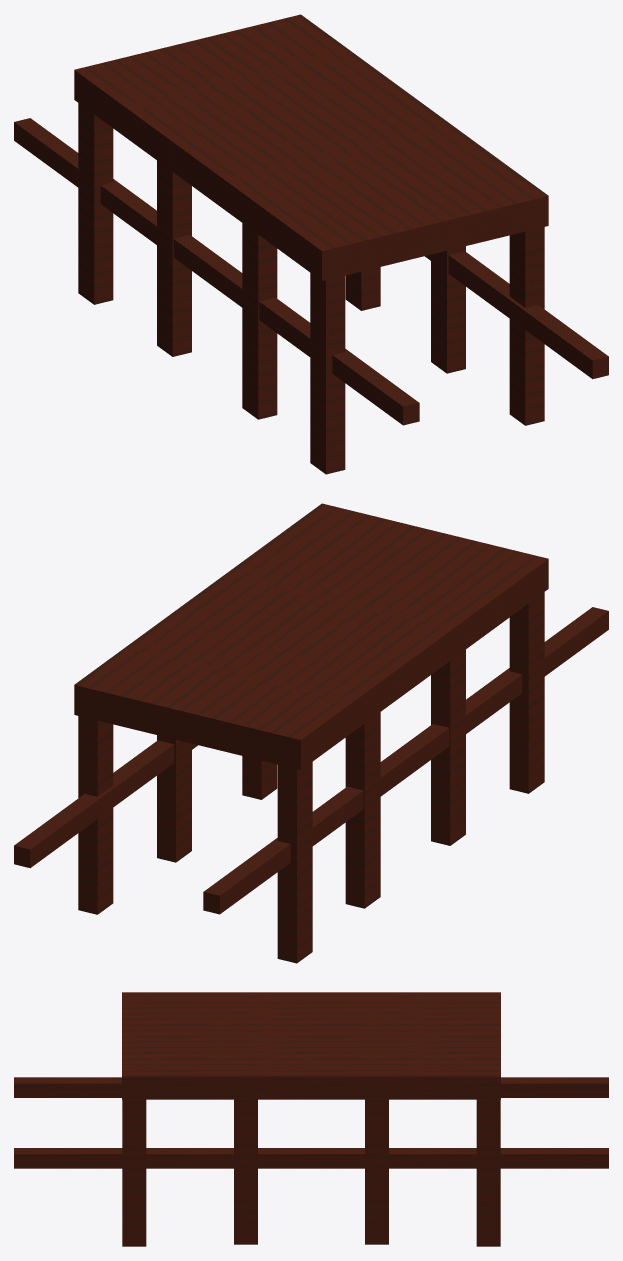
Rendered from Bridge.fbx.
3 views of the same model, one above another, from view 1: azimuth 30°, elevation 25°; view 2: azimuth 150°, elevation 25°; view 3: azimuth 270°, elevation 25° (orthographic). The views are drawn at different scales.
Visible parts, largest first — view 1: Cube.003, Cube.004, Cube.005; view 2: Cube.003, Cube.004, Cube.005; view 3: Cube.003, Cube.005, Cube.004.
Part boxes in pixels (x1=…): Cube.003: x1=74, y1=14, x2=548, y2=280; Cube.004: x1=78, y1=103, x2=544, y2=474; Cube.005: x1=14, y1=118, x2=608, y2=425; Cube.003: x1=74, y1=503, x2=548, y2=769; Cube.004: x1=78, y1=592, x2=544, y2=963; Cube.005: x1=14, y1=607, x2=608, y2=914; Cube.003: x1=122, y1=992, x2=500, y2=1099; Cube.005: x1=14, y1=1077, x2=608, y2=1168; Cube.004: x1=122, y1=1099, x2=500, y2=1246.
Bounding box in the file's own units: 7.91 × 7.48 × 23.51.
